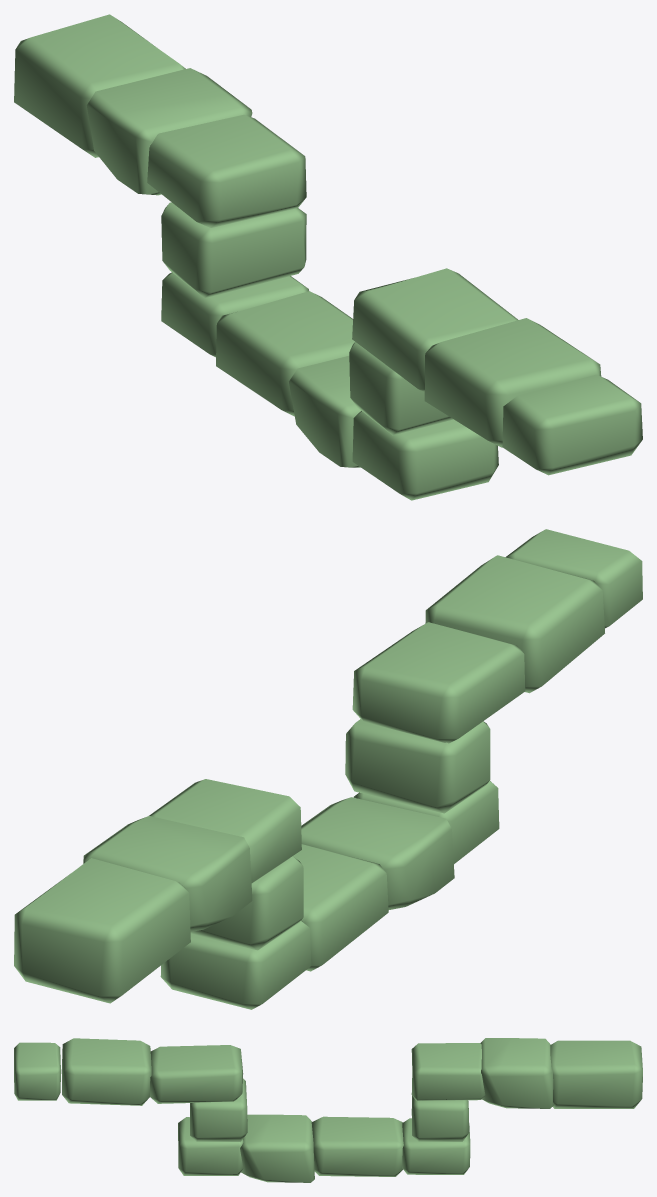
The model's file is Wall_Battlements_02_Lod0.fbx.
3 renders of one model, top to bottom at view 1: azimuth 30°, elevation 25°; view 2: azimuth 150°, elevation 25°; view 3: azimuth 270°, elevation 25°, orthographic. The views are drawn at different scales.
Visible parts, largest first — view 1: Wall_Battlements_02_Lod0; view 2: Wall_Battlements_02_Lod0; view 3: Wall_Battlements_02_Lod0.
Boxes of the visible parts, x1,y1,x2,y2 form: Wall_Battlements_02_Lod0: [14, 14, 642, 500]; Wall_Battlements_02_Lod0: [14, 529, 642, 1009]; Wall_Battlements_02_Lod0: [14, 1038, 642, 1182].
Bounding box in the file's own units: 39.82 × 62.83 × 305.
